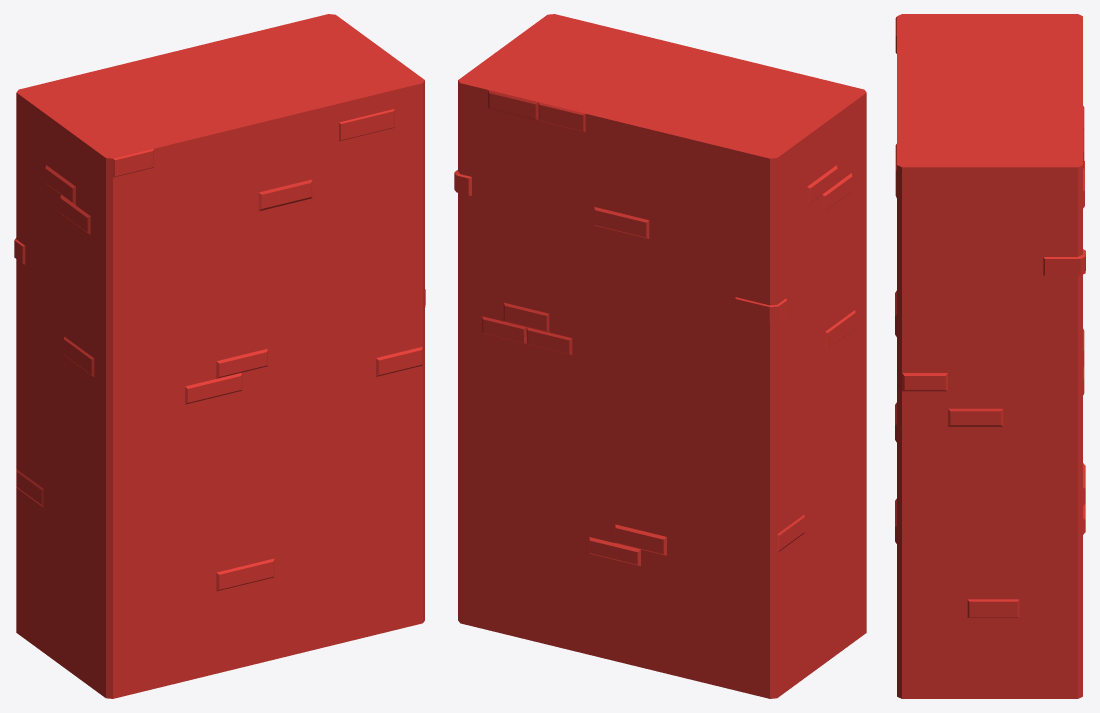
The model's file is SM_Chimney_Christmas_2m.fbx.
The picture shows the model from 3 angles, left to right: view 1: azimuth 30°, elevation 25°; view 2: azimuth 150°, elevation 25°; view 3: azimuth 270°, elevation 25°; orthographic projection.
Visible parts, largest first — view 1: chimney-christmas-2m; view 2: chimney-christmas-2m; view 3: chimney-christmas-2m.
Part boxes in pixels (x1,y1,x2,y2): chimney-christmas-2m: (14, 14, 425, 698); chimney-christmas-2m: (454, 14, 866, 698); chimney-christmas-2m: (895, 14, 1085, 698).
Bounding box in the file's own units: 1.25 × 2 × 0.6509.
